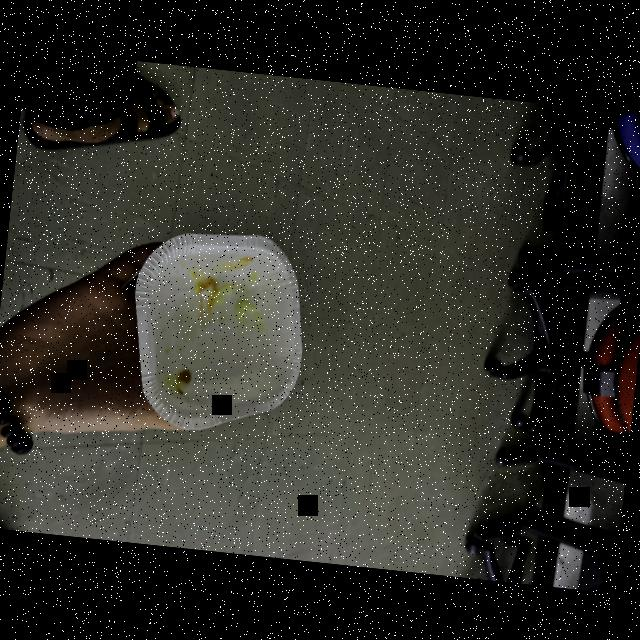cardboard_bowl: (113, 211, 322, 444)
